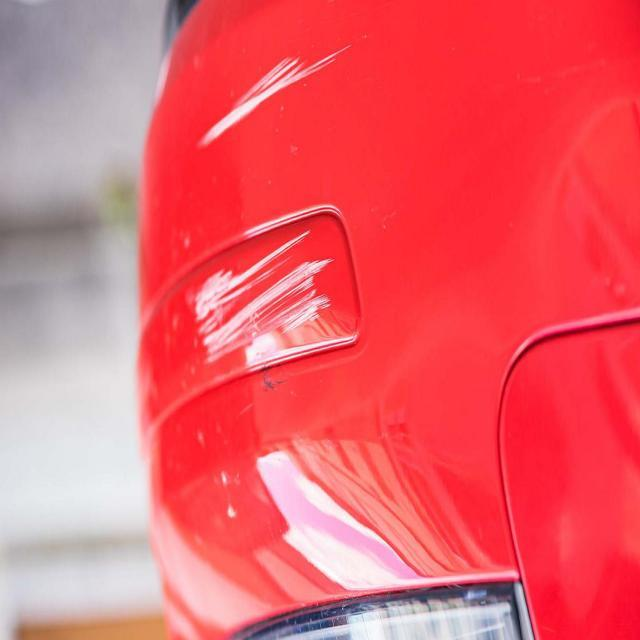scratch: (183, 210, 340, 396), (196, 43, 356, 154)
